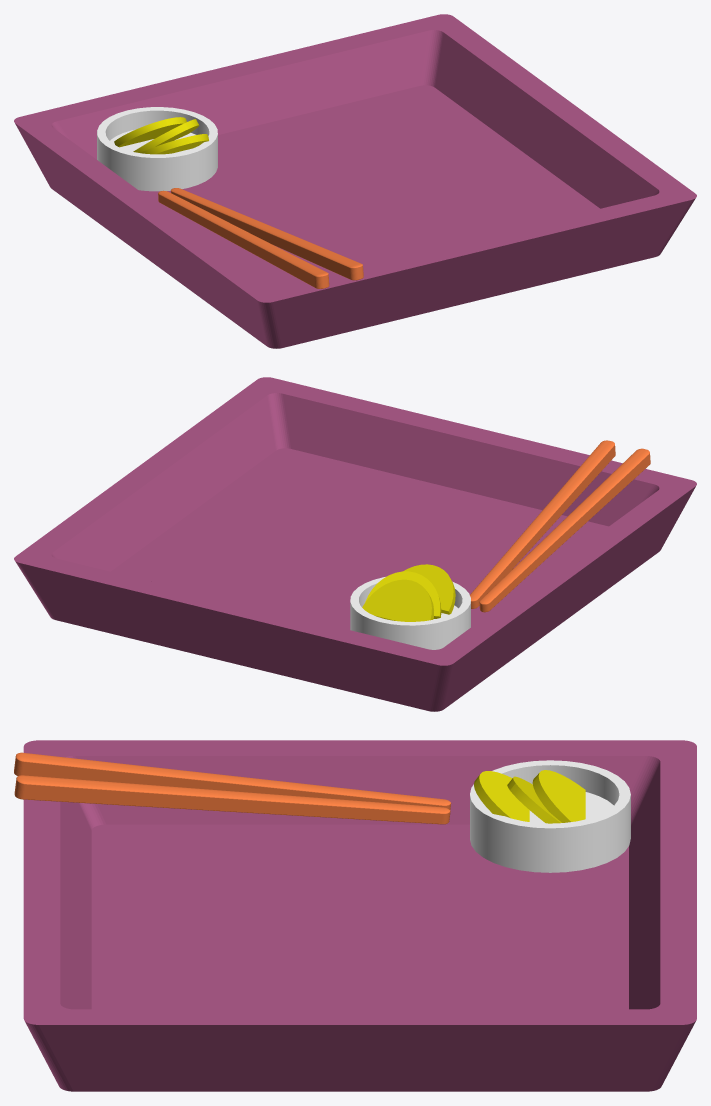
File: comp.fbx
3 views of the same model, one above another, from view 1: azimuth 30°, elevation 25°; view 2: azimuth 150°, elevation 25°; view 3: azimuth 270°, elevation 25° (orthographic). The views are drawn at different scales.
Visible parts, largest first — view 1: comp, qkscks; view 2: comp, qkscks; view 3: comp, qkscks.
Boxes of the visible parts, <box> form: comp: <box>14,14,696,348</box>; qkscks: <box>97,107,217,191</box>; comp: <box>14,377,696,711</box>; qkscks: <box>350,564,470,649</box>; comp: <box>14,740,696,1091</box>; qkscks: <box>470,760,630,872</box>.
Size of the model in its own units: 323 by 57.2 by 327.
